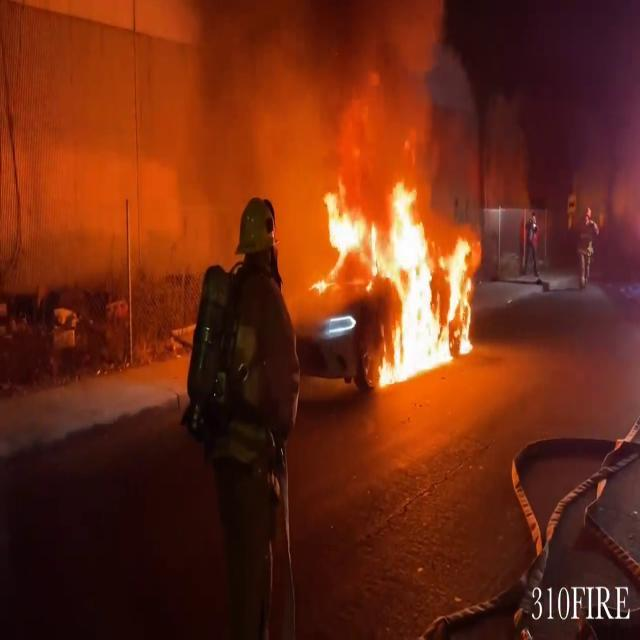Fire: (312, 159, 482, 386)
Smoke: (270, 0, 458, 198)
